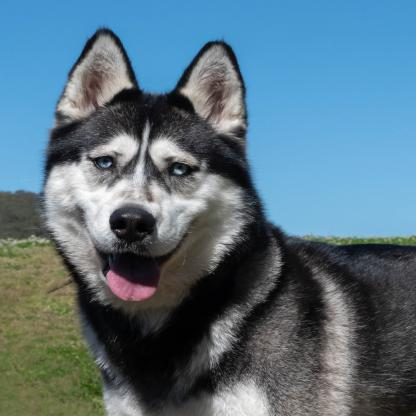husky: (36, 27, 416, 416)
